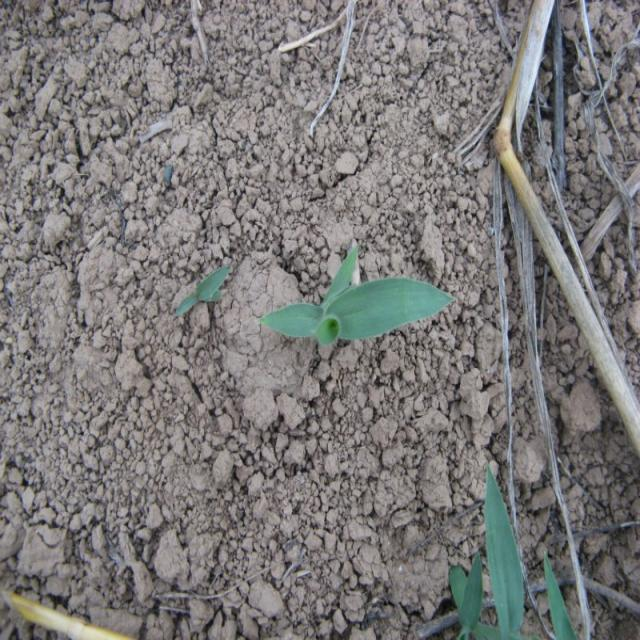bg: (268, 239, 451, 367)
